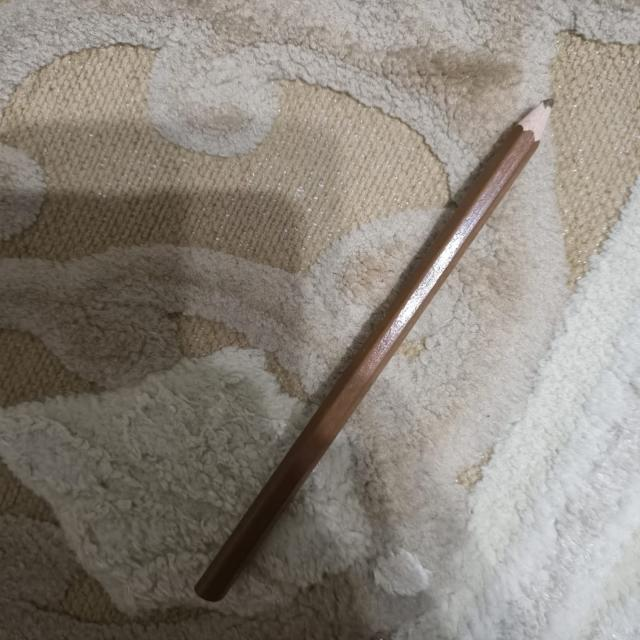pencil: (194, 100, 554, 602)
